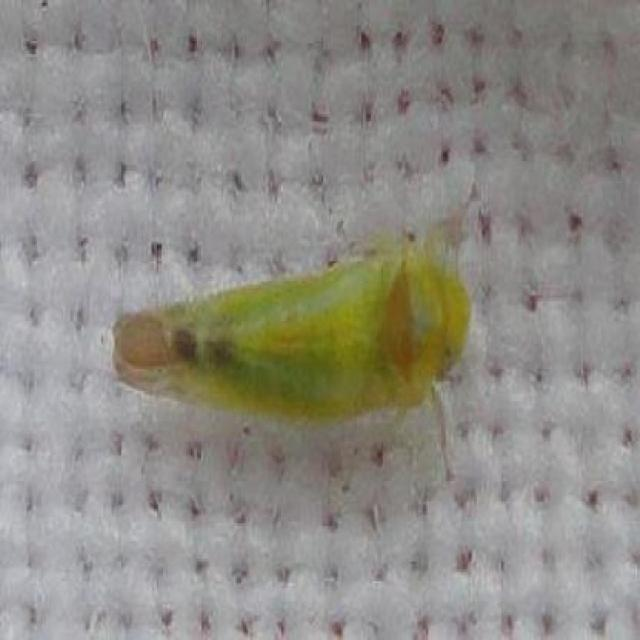green-leafhopper: (110, 231, 472, 475)
